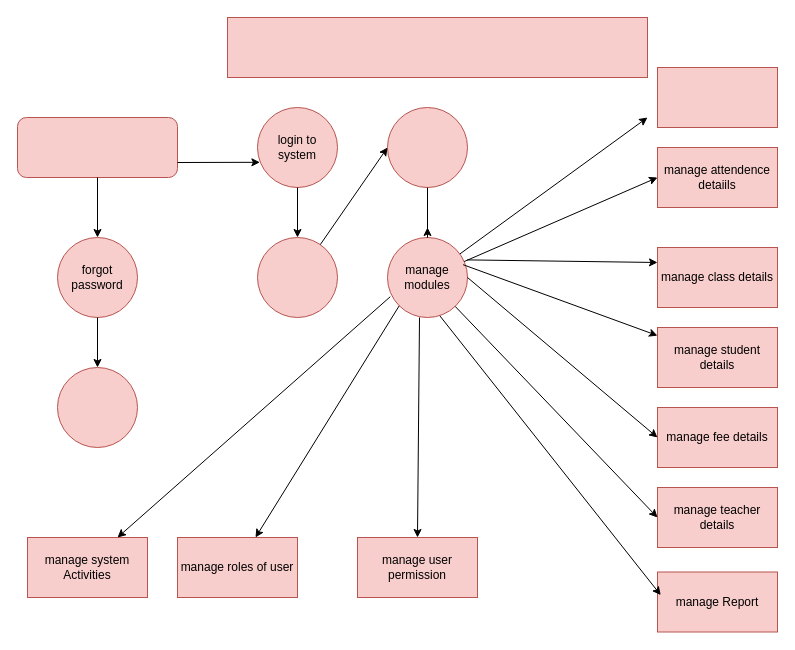
Some shapes in this 795 by 650 pixel diagram are drawn without their labels. Here are the shapes that lost their labels. From the top down, the centre of each, then its label:
(437,47): student information system
(717,97): manage timetable details
(97,147): Admin
(427,147): check roles of access
(297,277): check crendentials
(97,407): send email to user
